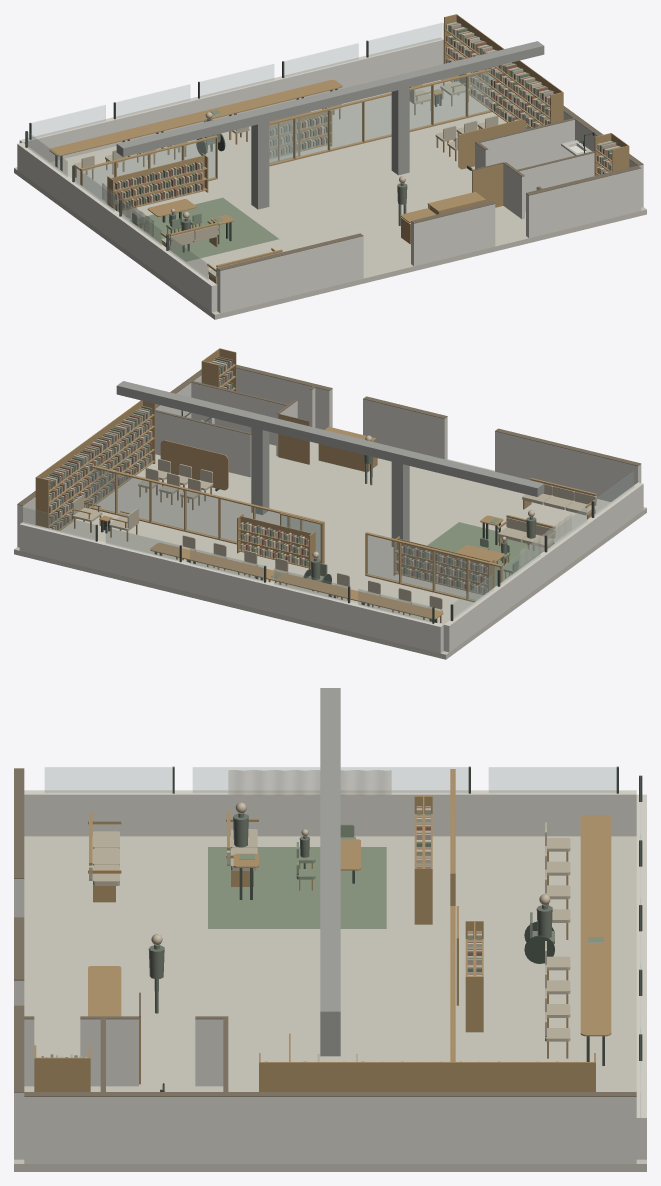
Rendered from community-reading-room-gathering.glb.
The picture shows the model from 3 angles, top to bottom: view 1: azimuth 30°, elevation 25°; view 2: azimuth 150°, elevation 25°; view 3: azimuth 270°, elevation 25°; orthographic projection. The views are drawn at different scales.
Visible parts, largest first — view 1: Floor finish panel 0, Floor finish panel 3, Acoustic boundary glazing - product to be verified (×3), 北侧窗下墙, 保留框架梁, 西侧窗下墙, Floor finish panel 1, 南侧保留墙, North glazing (×5), 南侧服务墙, 入口与次出口间墙, Tabletop (×2) (+16 smaller); view 2: 北侧窗下墙, Acoustic boundary glazing - product to be verified (×3), Floor finish panel 0, Floor finish panel 3, Floor finish panel 1, 保留框架梁, 西侧窗下墙, North glazing (×5), 南侧保留墙, Tabletop (×2), 入口与次出口间墙, Floor slab (+16 smaller); view 3: Floor finish panel 0, 东侧外墙, Floor finish panel 1, 西侧窗下墙, Floor finish panel 3, Shelf spine (×2), Flush floor finish, West glazing (×4), 保留框架梁, Tabletop, Section cap (×4), Floor slab (+13 smaller).
Part boxes in pixels (bbox=[...]): Floor finish panel 0: bbox=[14, 79, 506, 228]; Floor finish panel 3: bbox=[223, 141, 474, 238]; Acoustic boundary glazing - product to be verified (×3): bbox=[83, 71, 494, 203]; 北侧窗下墙: bbox=[19, 37, 443, 162]; 保留框架梁: bbox=[116, 41, 544, 157]; 西侧窗下墙: bbox=[17, 142, 217, 312]; Floor finish panel 1: bbox=[153, 192, 646, 314]; 南侧保留墙: bbox=[217, 236, 363, 313]; North glazing (×5): bbox=[32, 23, 442, 138]; 南侧服务墙: bbox=[526, 168, 641, 238]; 入口与次出口间墙: bbox=[411, 204, 495, 266]; Tabletop (×2): bbox=[49, 79, 342, 216]; 北侧窗下墙: bbox=[19, 522, 443, 653]; Acoustic boundary glazing - product to be verified (×3): bbox=[88, 468, 499, 600]; Floor finish panel 0: bbox=[14, 493, 527, 654]; Floor finish panel 3: bbox=[113, 454, 458, 560]; Floor finish panel 1: bbox=[269, 441, 646, 552]; 保留框架梁: bbox=[116, 381, 544, 496]; 西侧窗下墙: bbox=[443, 482, 643, 652]; North glazing (×5): bbox=[21, 507, 432, 622]; 南侧保留墙: bbox=[495, 431, 641, 501]; Tabletop (×2): bbox=[150, 543, 504, 619]; 入口与次出口间墙: bbox=[363, 399, 447, 459]; Floor slab: bbox=[14, 508, 646, 659]; Floor finish panel 0: bbox=[386, 836, 646, 1164]; 东侧外墙: bbox=[24, 1097, 636, 1163]; Floor finish panel 1: bbox=[14, 836, 207, 1164]; 西侧窗下墙: bbox=[24, 790, 636, 836]; Floor finish panel 3: bbox=[208, 929, 386, 1164]; Shelf spine (×2): bbox=[34, 1057, 595, 1091]; Flush floor finish: bbox=[208, 847, 386, 928]; West glazing (×4): bbox=[45, 767, 616, 792]; 保留框架梁: bbox=[320, 688, 340, 1025]; Tabletop: bbox=[580, 815, 611, 1036]; Section cap (×4): bbox=[14, 768, 636, 1096]; Floor slab: bbox=[14, 1164, 646, 1171].
Bounding box in the file's own units: 15.4 × 3.37 × 12.4.
